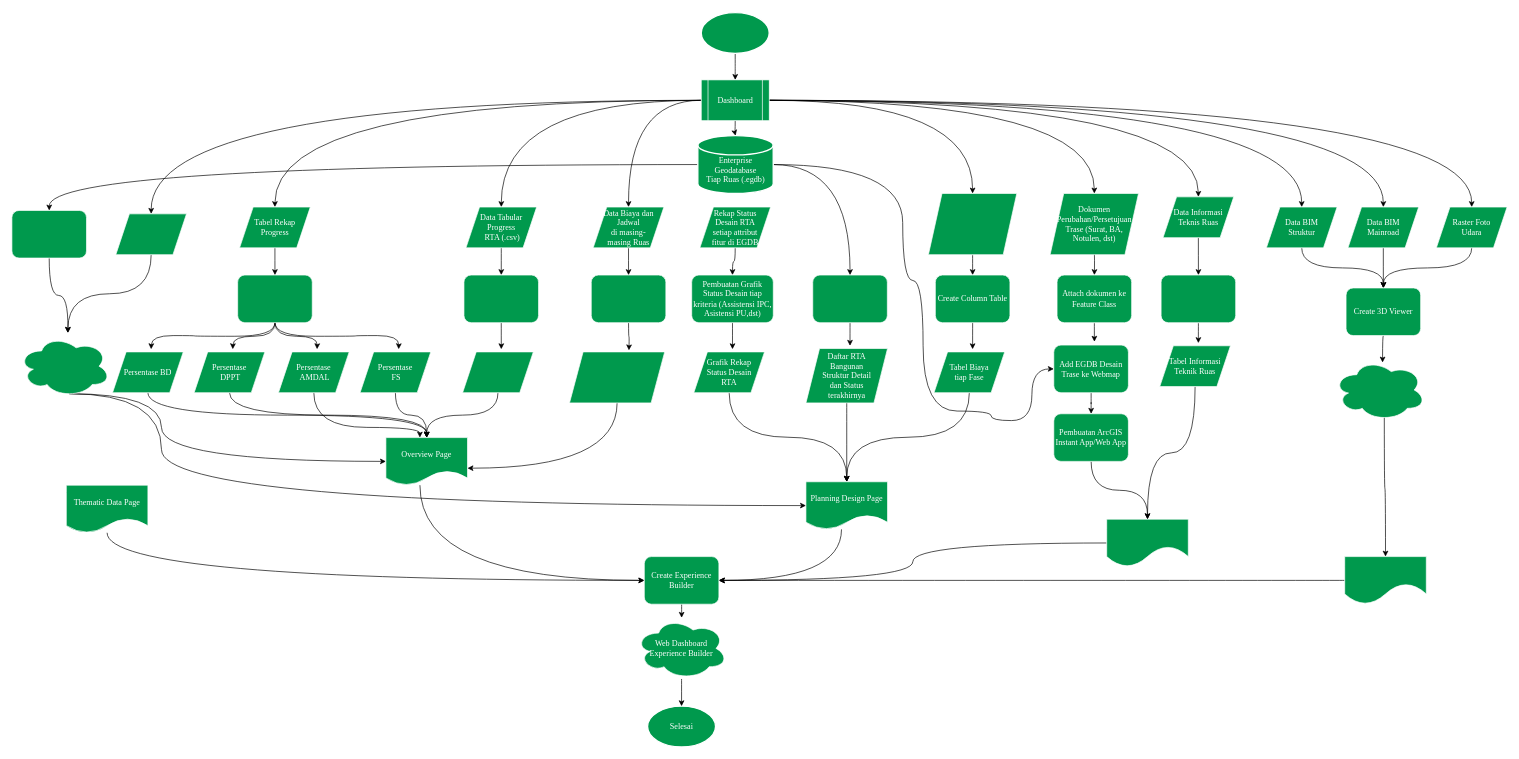
Some shapes in this 1519 by 759 pixel diagram are drawn without their labels. Here are the shapes that lost their labels. From the top down, the centre of each, then its label:
At [735,33]: "Mulai".
At [48,234]: "Ekstrak Fitur Centerline".
At [151,234]: "Raster Foto Udara (.TIF/.ECW)".
At [972,224]: "Rekap Biaya Konstruksi tiap Pekerjaan (PPJT , Kontrak, Basic Design, dst)".
At [274,298]: "Create Diagram Lingkaran Persentase".
At [501,298]: "Create Diagram Batang Vertikal untuk menampilkan progress".
At [628,298]: "Pembuatan Diagram tiap Data.".
At [849,298]: "Pembuatan List Status dan Progress Bangunan RTA".
At [1198,298]: "Create Table".
At [64,366]: "Webmap".
At [497,372]: "Diagram Batang Tiap Seksi".
At [617,377]: "Diagram Biaya PPJT, Biaya Konstruksi, Jadwal PPJT".
At [1379,390]: "Webscene 3D Viewer".
At [1147,542]: "Historical Trase Page".
At [1385,580]: "GeoBIM Page".
